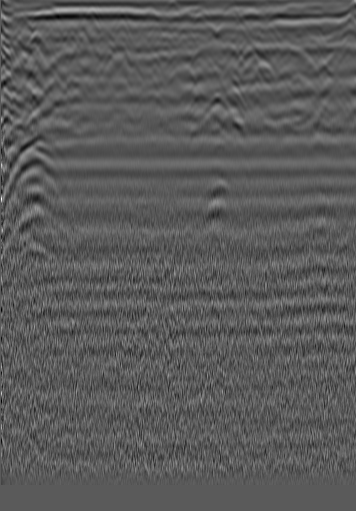상수: (297, 20, 317, 40)
오수: (25, 32, 45, 52)
우수: (155, 32, 175, 52)
